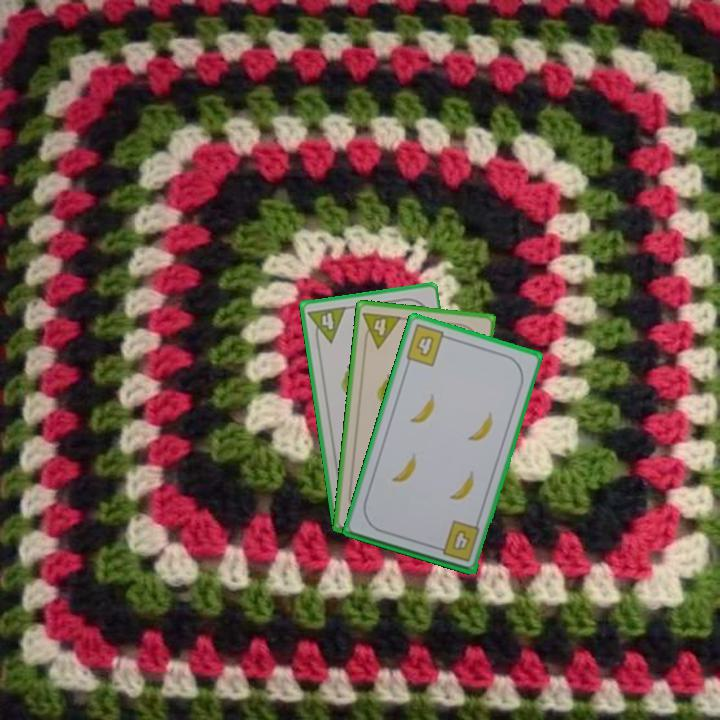4b: (402, 321, 453, 369), (432, 517, 482, 565)
4p: (304, 303, 349, 347), (359, 308, 404, 351)
